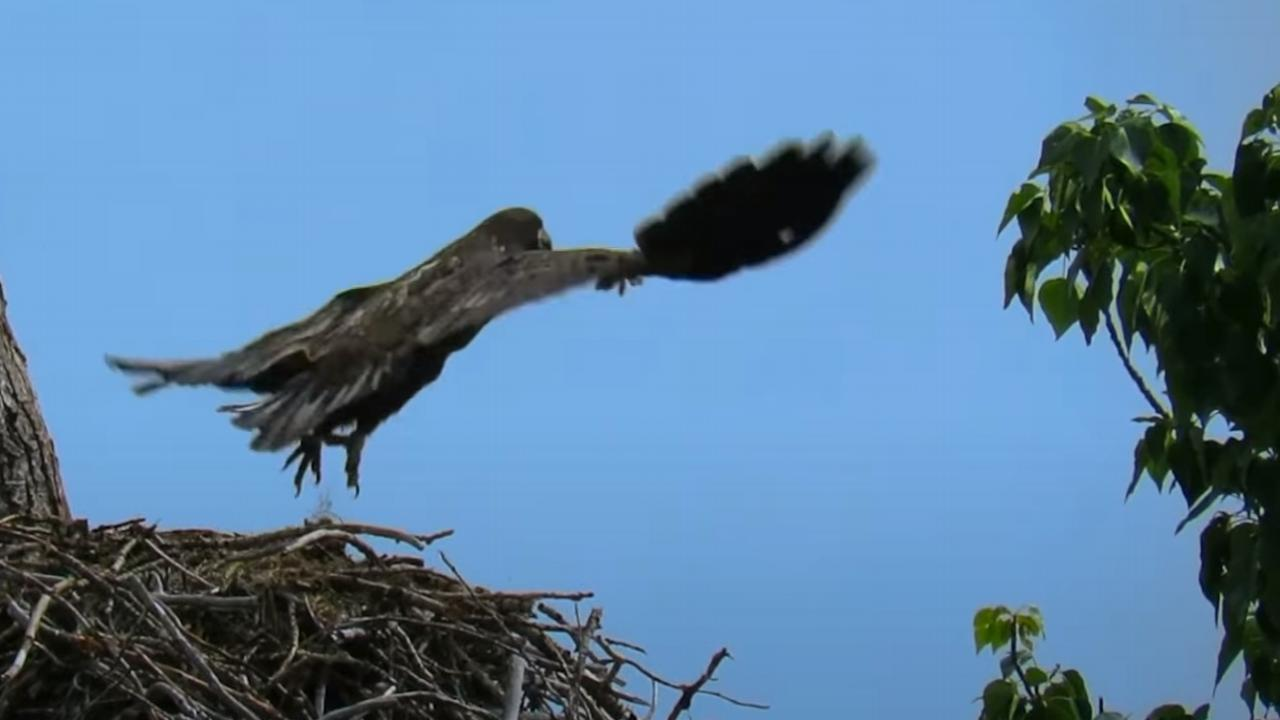Bird: (92, 119, 894, 509)
